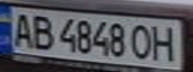4: (54, 16, 78, 53), (90, 18, 112, 56)
8: (106, 20, 130, 57), (75, 18, 93, 55)
A: (6, 10, 36, 48)
B: (27, 11, 57, 51)
H: (148, 22, 181, 63)
O: (127, 21, 157, 61)
